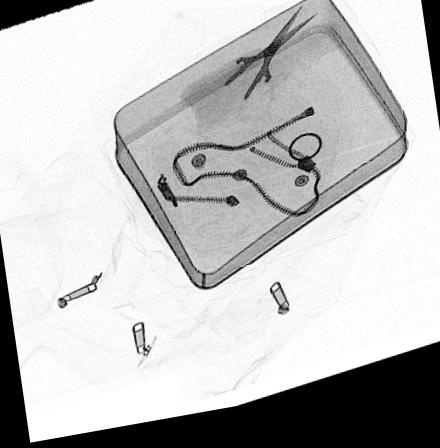Scissors: (181, 11, 319, 136)
